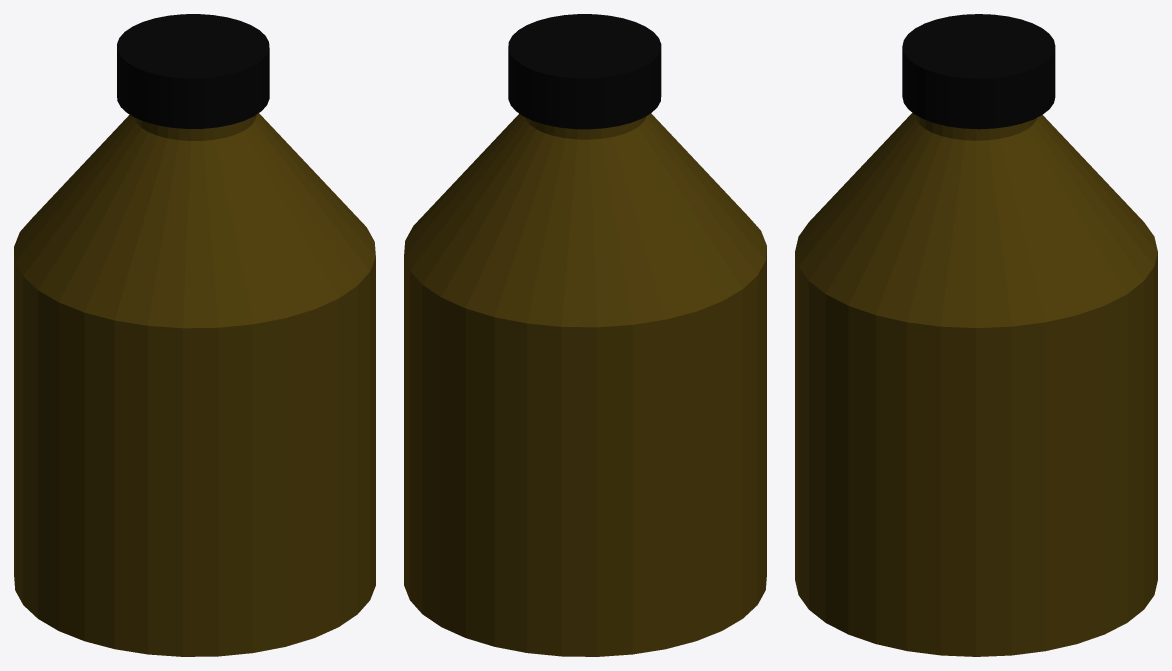
The model's file is bottle.glb.
3 renders of one model, left to right at view 1: azimuth 30°, elevation 25°; view 2: azimuth 150°, elevation 25°; view 3: azimuth 270°, elevation 25°, orthographic.
Visible parts, largest first — view 1: Cylinder, Cylinder.001; view 2: Cylinder, Cylinder.001; view 3: Cylinder, Cylinder.001.
Boxes of the visible parts, x1,y1,x2,y2 form: Cylinder: [14, 113, 375, 656]; Cylinder.001: [117, 14, 269, 128]; Cylinder: [404, 113, 766, 656]; Cylinder.001: [508, 14, 661, 129]; Cylinder: [795, 113, 1157, 656]; Cylinder.001: [902, 14, 1055, 129].
Bounding box in the file's own units: 0.2439 × 0.3959 × 0.2439.
